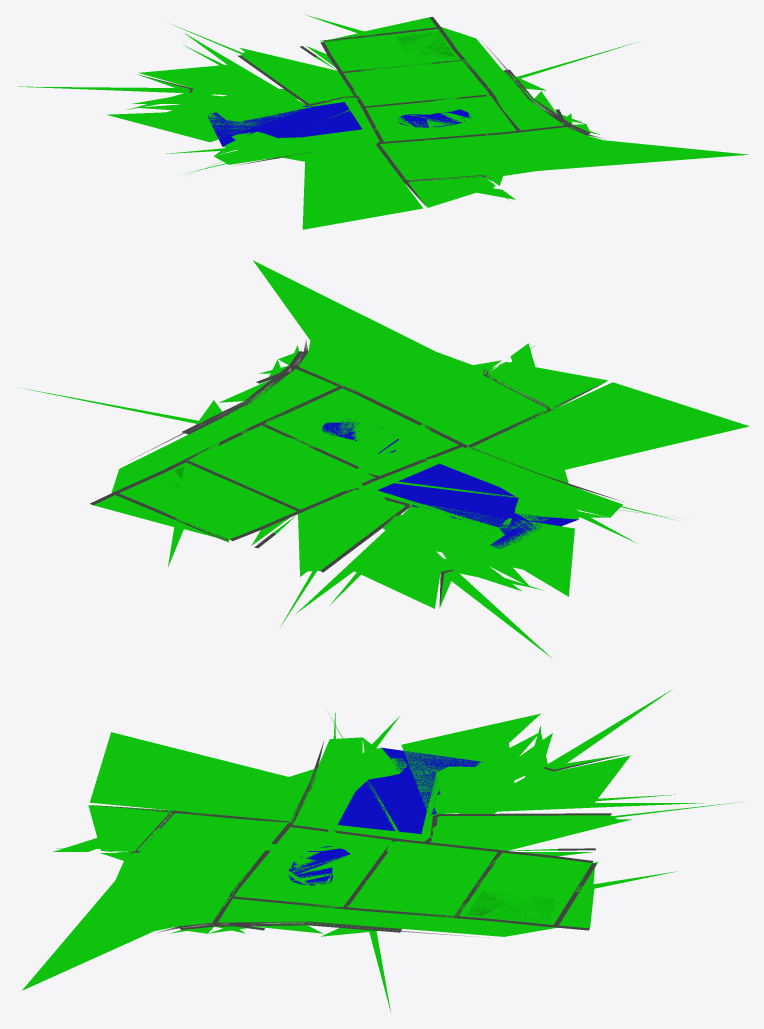
3 renders of one model, top to bottom at view 1: azimuth 30°, elevation 25°; view 2: azimuth 150°, elevation 25°; view 3: azimuth 270°, elevation 25°, orthographic. The views are drawn at different scales.
Bounding box in the file's own units: 598 × 0.001 × 570.
